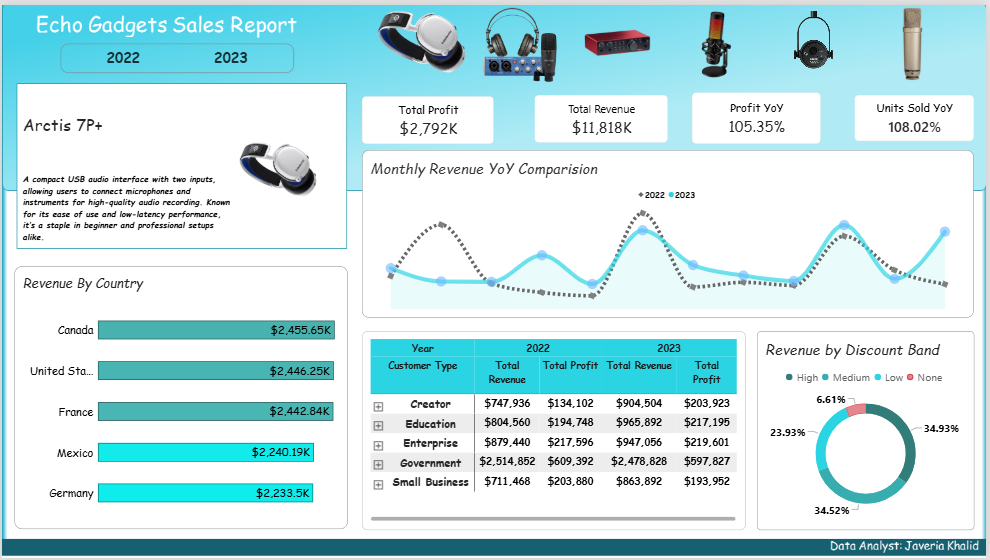

The dashboard page shown, as its layout file describes it:
{"tool":"powerbi","page":{"name":"Page 1","canvas":[1920,1080],"ordinal":0},"visuals":[{"type":"advancedSlicerVisual","fields":{"Values":["product_sales (2).Image url"]},"box":[702.5,0,1192.5,152.5],"z":0},{"type":"cardVisual","fields":{"Data":["Min(product_sales (2).Product)"]},"box":[435,177.5,267.5,295],"z":1,"group":"g1"},{"type":"cardVisual","fields":{"Data":["Min(product_sales (2).Product)"]},"box":[25,152.5,437.5,320],"z":2,"group":"g1"},{"type":"group","id":"g1","title":"Group 1","box":[25,152.5,677.5,320],"z":3},{"type":"clusteredBarChart","title":"Revenue By Country","fields":{"Category":["product_sales (2).Country"],"Y":["Sum(product_sales (2).Revenue)"]},"box":[25,510,650,512.5],"z":4},{"type":"lineChart","title":"Monthly Revenue YoY Comparision","fields":{"Category":["date_table.Month Name"],"Series":["date_table.Year"],"Y":["Sum(product_sales (2).Revenue)"]},"box":[703,281.8,1193.9,327.3],"z":5},{"type":"cardVisual","fields":{"Data":["Measures (2).Total Profit"]},"box":[703,178.8,257.6,93.9],"z":6},{"type":"cardVisual","fields":{"Data":["Measures (2).Total Revenue"]},"box":[1039.4,175.8,260.6,93.9],"z":7},{"type":"cardVisual","fields":{"Data":["Measures (2).Units Sold YoY"]},"box":[1663.6,175.8,233.3,90.9],"z":8},{"type":"donutChart","title":"Revenue by  Discount Band ","fields":{"Category":["product_sales (2). Discount Band "],"Y":["Measures (2).Total Revenue"]},"box":[1472.7,636.4,424.2,387.9],"z":9},{"type":"pivotTable","fields":{"Columns":["date_table.Year"],"Rows":["product_sales (2).Customer Type","product_sales (2).Product"],"Values":["Measures (2).Total Revenue","Measures (2).Total Profit"]},"box":[703,636.4,748.5,387.9],"z":10},{"type":"cardVisual","fields":{"Data":["Measures (2).Profit YoY"]},"box":[1345.5,169.7,251.5,100],"z":11},{"type":"advancedSlicerVisual","fields":{"Values":["date_table.Year"]},"box":[114.3,76.2,454,57],"z":12}]}

Visuals, with their boxes in screenshot pixels (x1, y1, x2, y2), scaled from the page's 1920x1080 canvas onto the 990x560 screenshot:
advancedSlicerVisual - product_sales (2).Image url: [362,0,977,79]
cardVisual - Min(product_sales (2).Product): [224,92,362,245]
cardVisual - Min(product_sales (2).Product): [13,79,238,245]
"Group 1" group: [13,79,362,245]
"Revenue By Country" clusteredBarChart: [13,264,348,530]
"Monthly Revenue YoY Comparision" lineChart: [362,146,978,316]
cardVisual - Measures (2).Total Profit: [362,93,495,141]
cardVisual - Measures (2).Total Revenue: [536,91,670,140]
cardVisual - Measures (2).Units Sold YoY: [858,91,978,138]
"Revenue by  Discount Band " donutChart: [759,330,978,531]
pivotTable - date_table.Year x product_sales (2).Customer Type: [362,330,748,531]
cardVisual - Measures (2).Profit YoY: [694,88,823,140]
advancedSlicerVisual - date_table.Year: [59,40,293,69]
